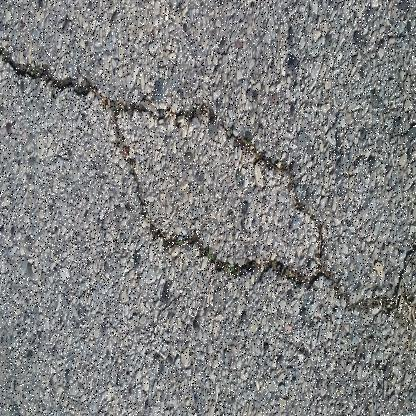Cracks: (0, 27, 415, 318)
